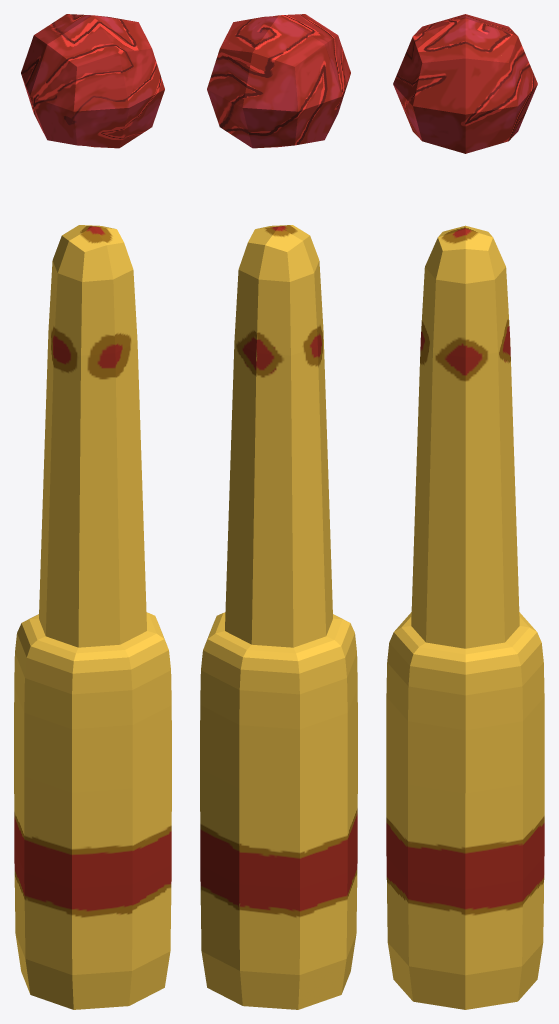
Rendered from wand.fbx.
3 renders of one model, left to right at view 1: azimuth 30°, elevation 25°; view 2: azimuth 150°, elevation 25°; view 3: azimuth 270°, elevation 25°, orthographic.
Parts seen in each view (by area): view 1: Cube; view 2: Cube; view 3: Cube.
Boxes of the visible parts, bbox=[...] form: Cube: bbox=[14, 14, 171, 1009]; Cube: bbox=[200, 14, 357, 1009]; Cube: bbox=[386, 14, 544, 1009].
Size of the model in its own units: 183 by 1235 by 183.
1 material, 1 textured.
